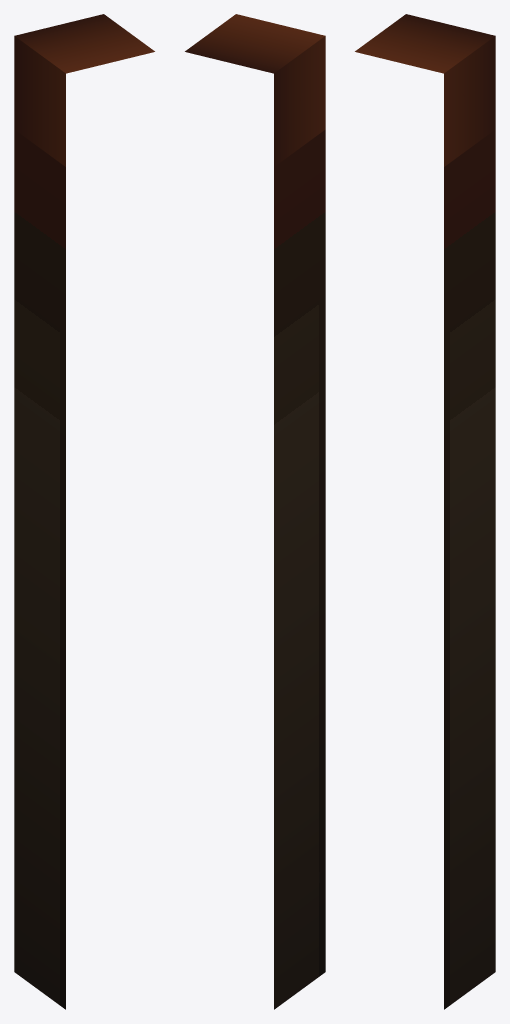
3 views of the same model, side by side, from view 1: azimuth 30°, elevation 25°; view 2: azimuth 150°, elevation 25°; view 3: azimuth 330°, elevation 25° (orthographic).
Size of the model in its own units: 0.25 by 2.5 by 0.25.
Materials: 2 (2 with a texture image).
